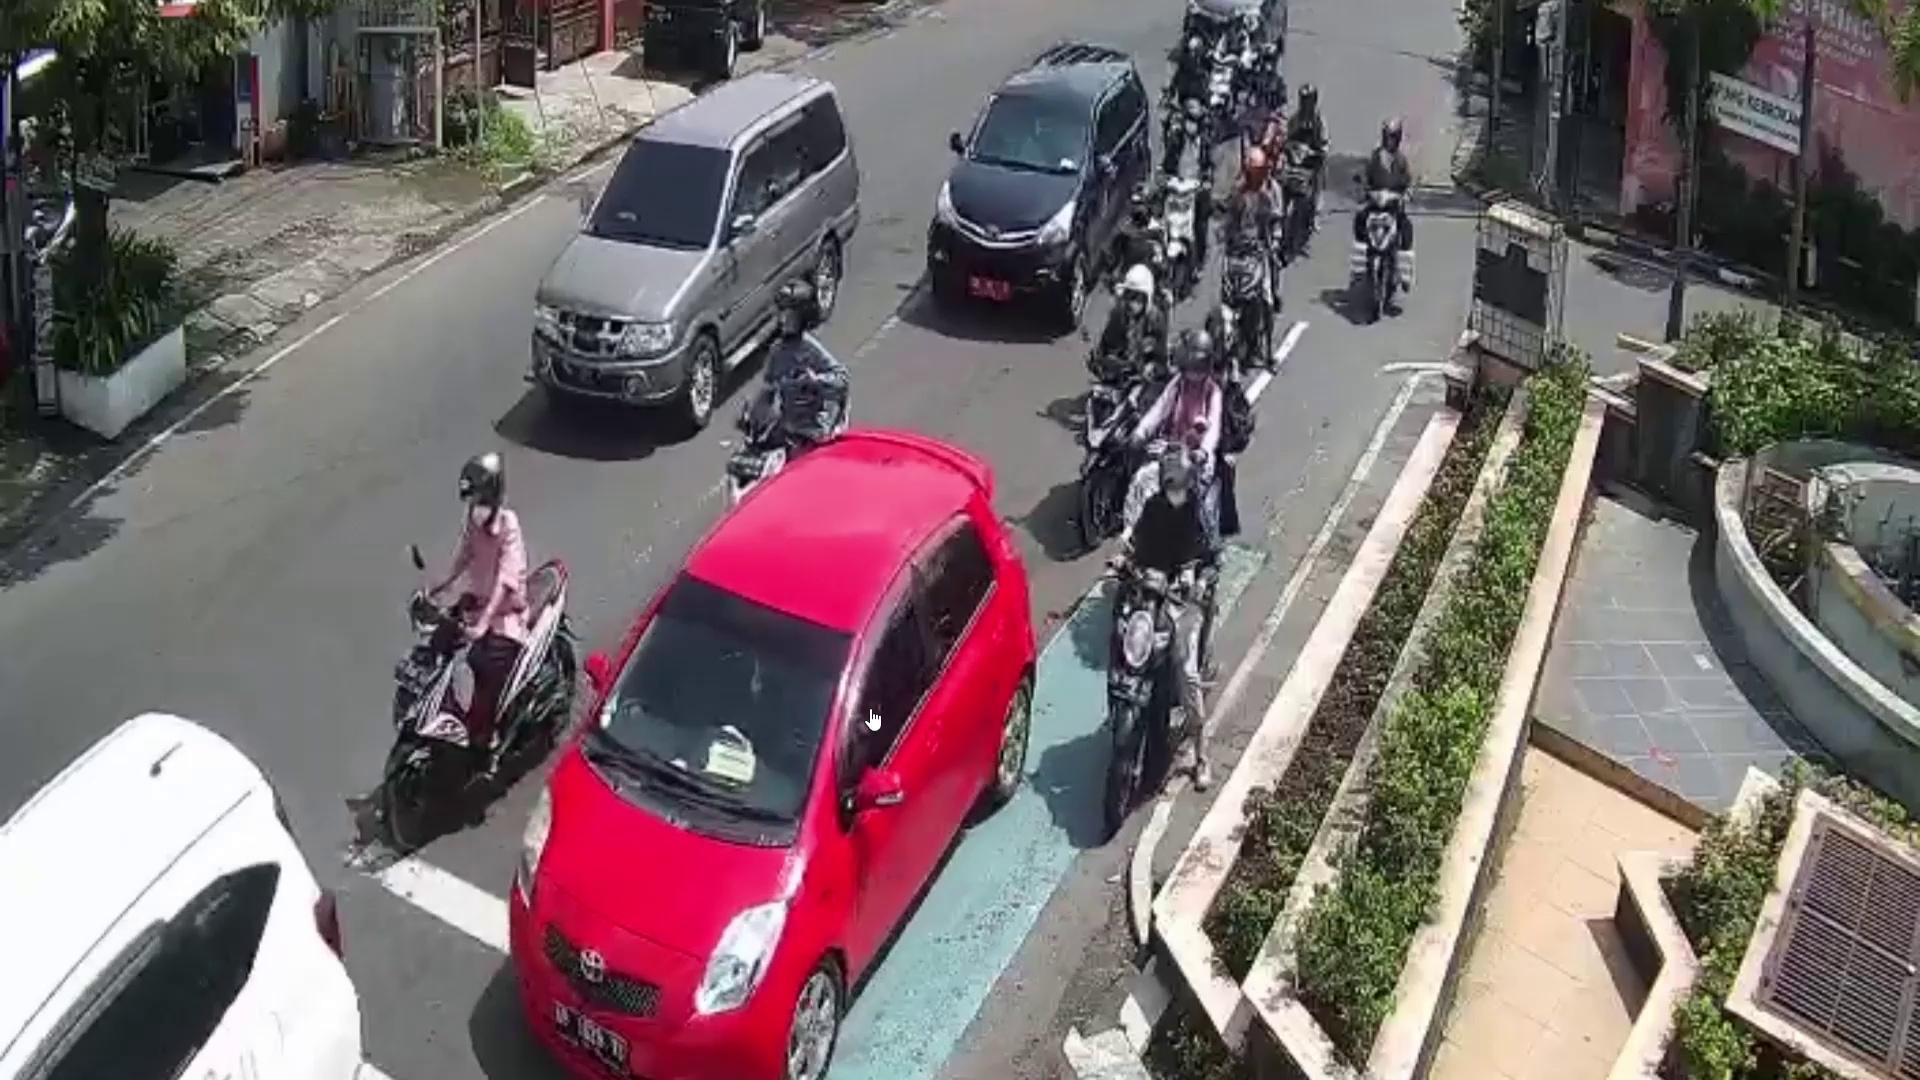car: (509, 425, 1034, 1080), (530, 75, 858, 436), (928, 42, 1154, 327)
motorbike: (371, 560, 571, 851), (1109, 555, 1174, 833), (1080, 347, 1137, 550), (1356, 183, 1406, 327)
